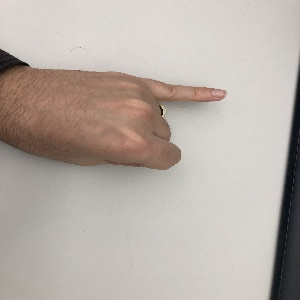hand: (37, 70, 226, 171)
